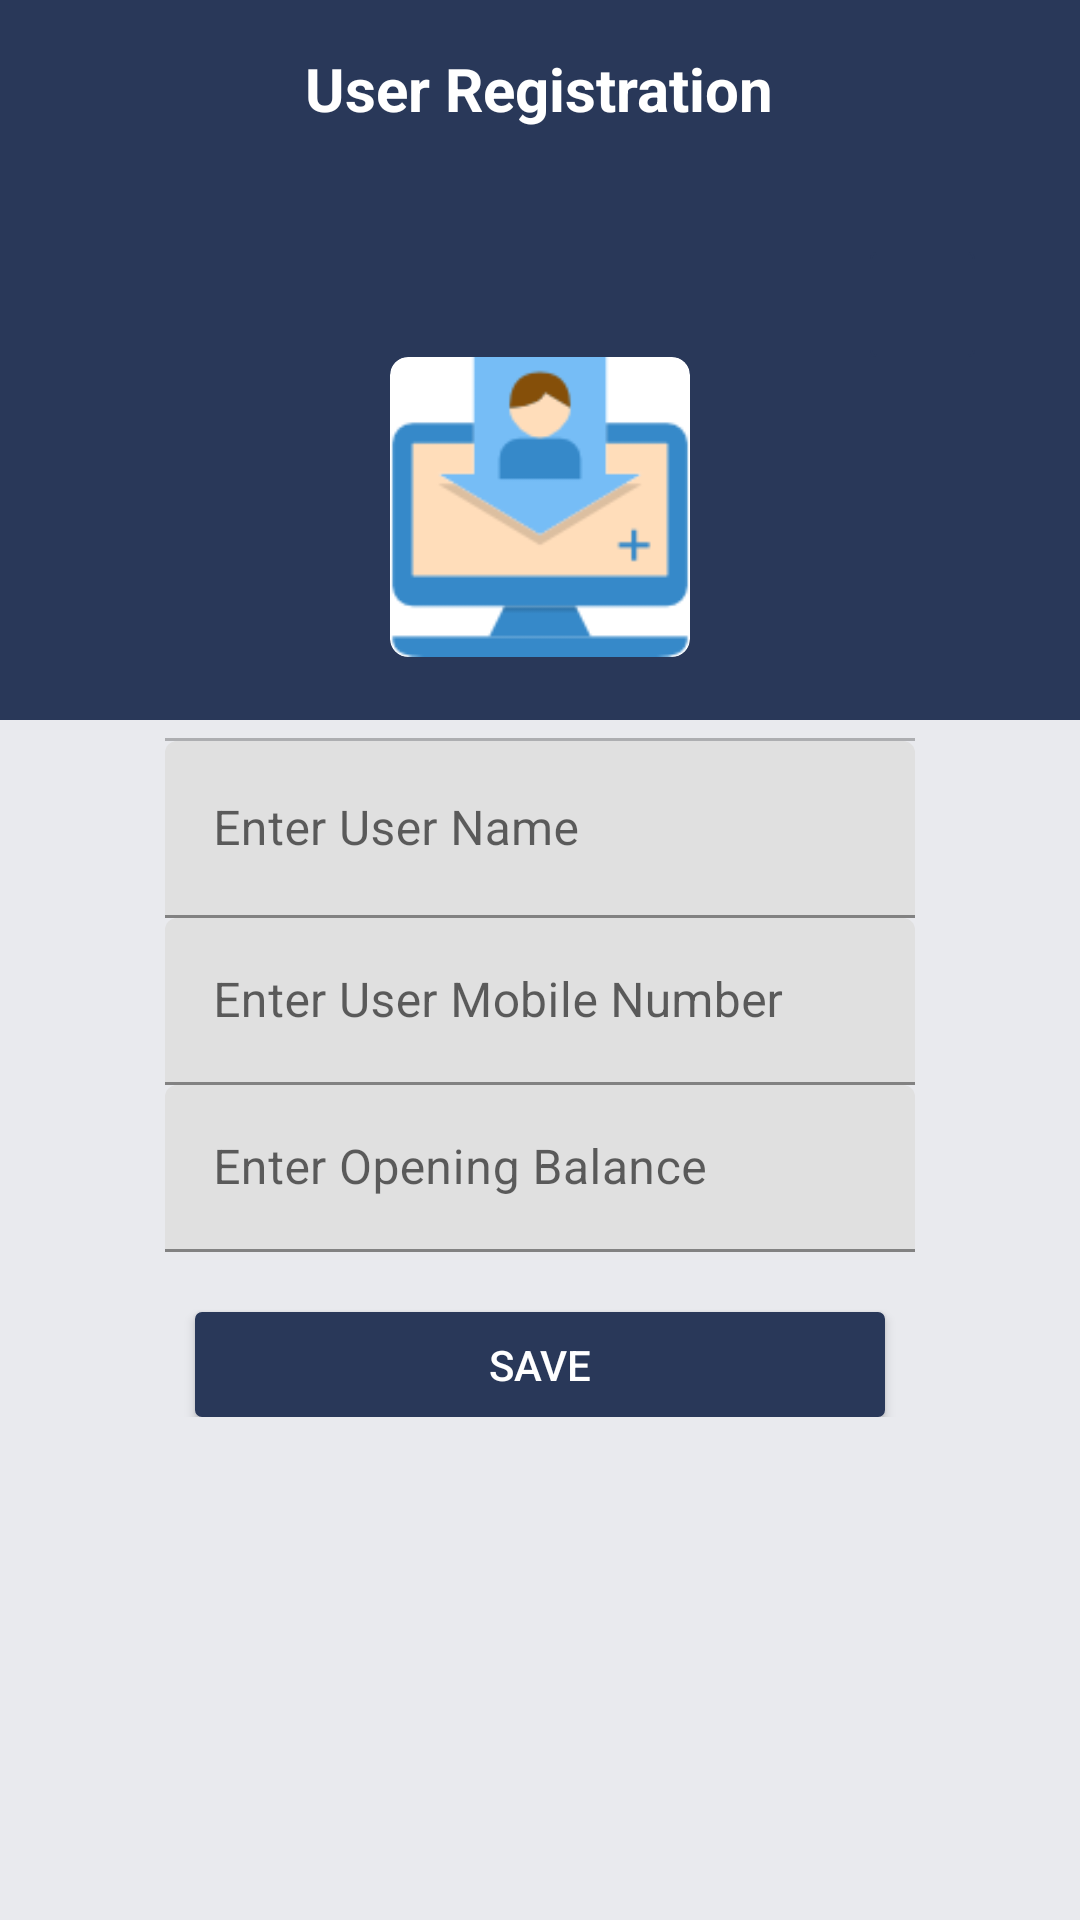

Icons on this 1080w x 1920h Android screen, each with the point to tap as (x,y):
registration: (540,507)
